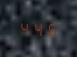four: (32, 19, 44, 37), (18, 19, 30, 36)
six: (45, 20, 57, 37)
